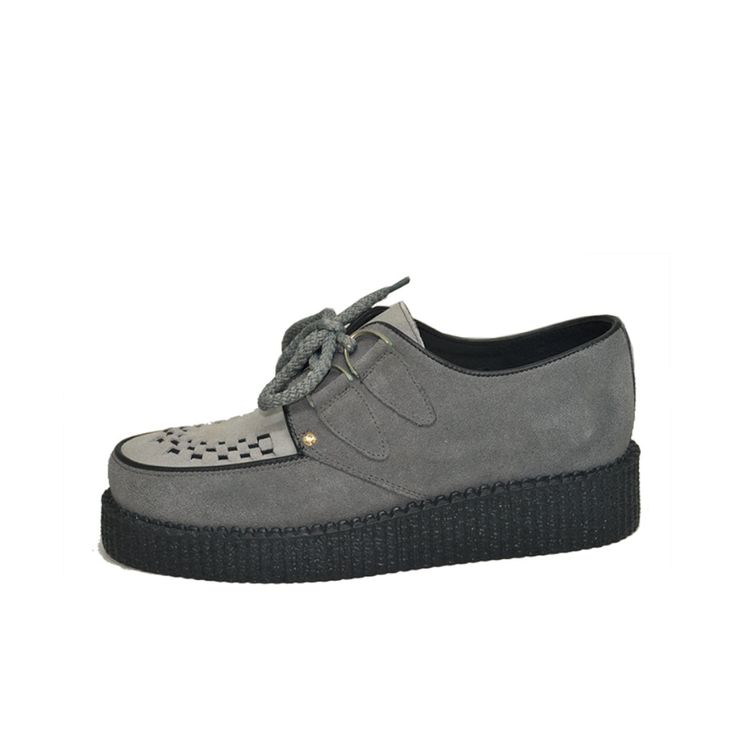gamuza: (106, 303, 637, 529)
